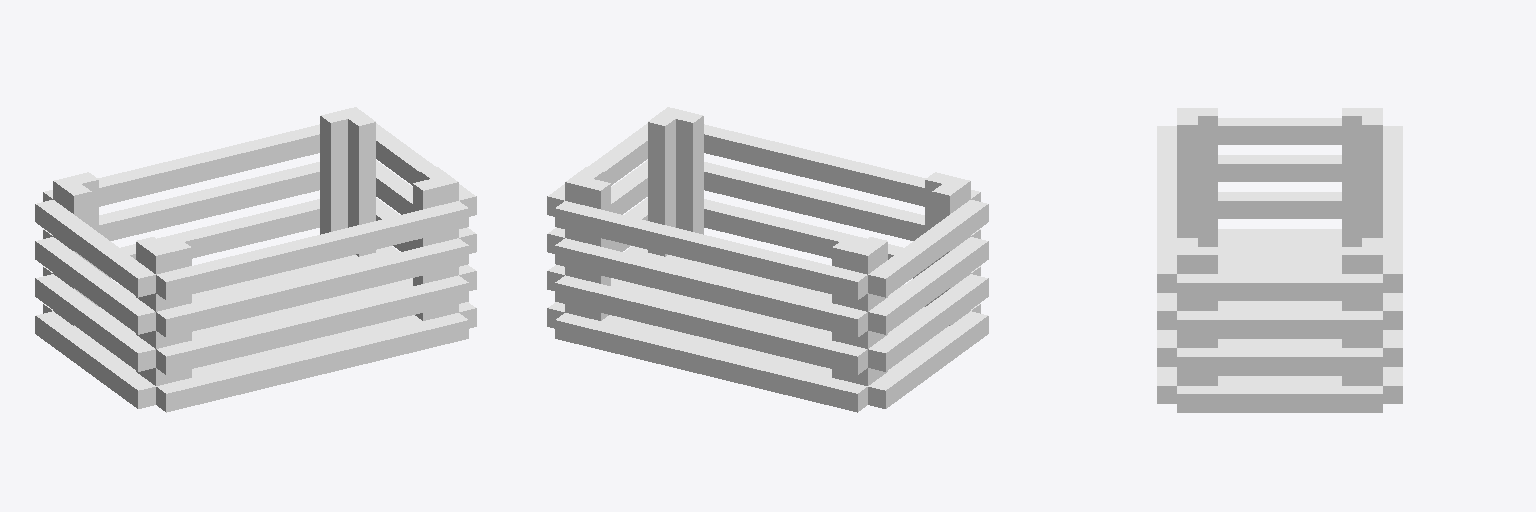
File: Box_Empty.obj
The picture shows the model from 3 angles: view 1: azimuth 30°, elevation 25°; view 2: azimuth 150°, elevation 25°; view 3: azimuth 270°, elevation 25°; orthographic projection.
Parts seen in each view (by area): view 1: Box_Empty; view 2: Box_Empty; view 3: Box_Empty.
Boxes of the visible parts, box(x1,y1,x2,y2) form: Box_Empty: box(35, 107, 476, 412); Box_Empty: box(547, 107, 988, 412); Box_Empty: box(1157, 108, 1402, 412).
Size of the model in its own units: 19 by 8 by 12.